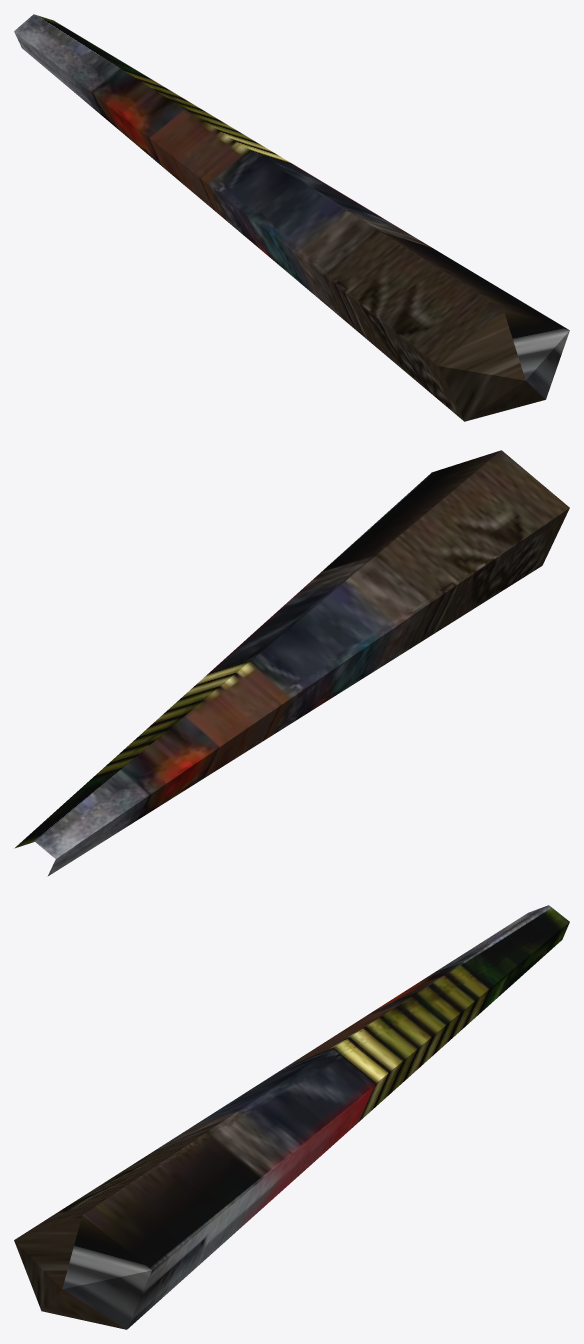
The model's file is FAJA3.glb.
3 views of the same model, one above another, from view 1: azimuth 30°, elevation 25°; view 2: azimuth 150°, elevation 25°; view 3: azimuth 330°, elevation 25° (orthographic). The views are drawn at different scales.
Parts seen in each view (by area): view 1: FAJA3; view 2: FAJA3; view 3: FAJA3.
Boxes of the visible parts, x1,y1,x2,y2 form: FAJA3: [14, 14, 569, 421]; FAJA3: [14, 450, 569, 876]; FAJA3: [14, 905, 569, 1329].
Bounding box in the file's own units: 0.0478 × 0.0352 × 0.3002.
Materials: 1 (1 with a texture image).
